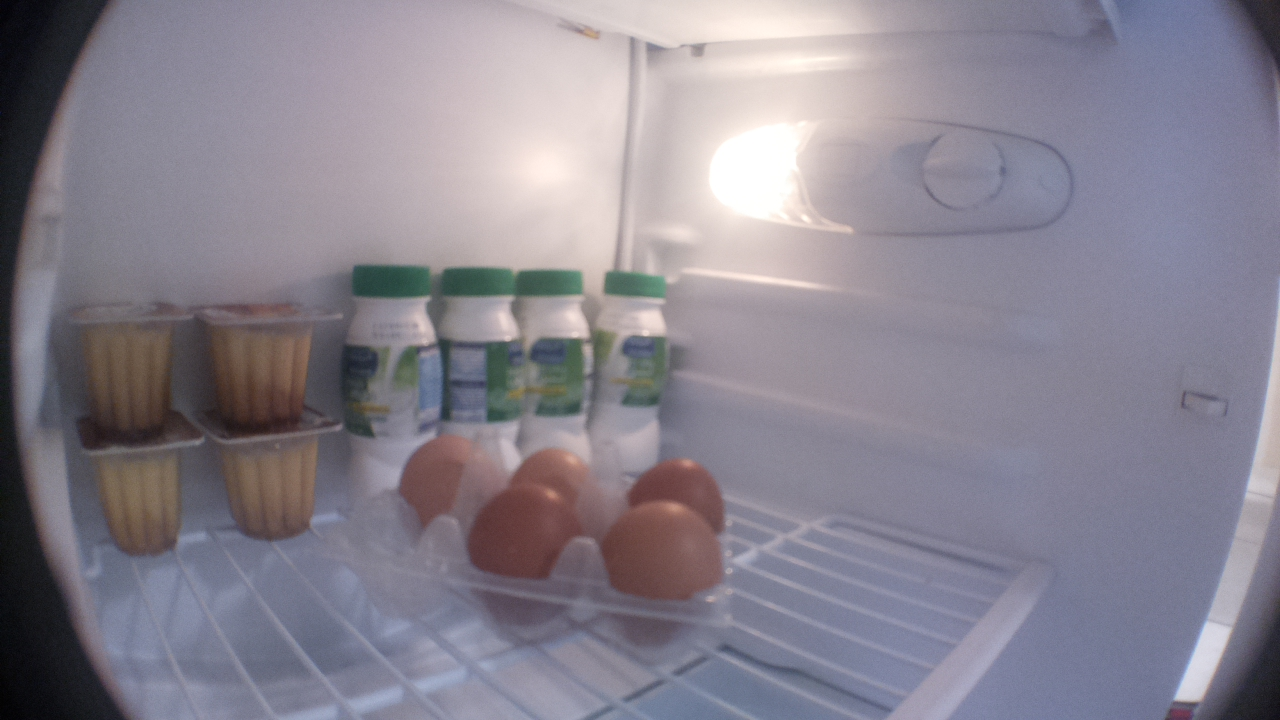caramel: (59, 292, 201, 440), (67, 421, 202, 559), (204, 288, 334, 426), (200, 426, 333, 542)
egg: (598, 507, 729, 660), (478, 487, 580, 633), (399, 428, 491, 524), (618, 456, 726, 525), (509, 441, 600, 507)
laban: (340, 258, 443, 475), (435, 255, 527, 437), (517, 261, 604, 445), (599, 263, 668, 463)
